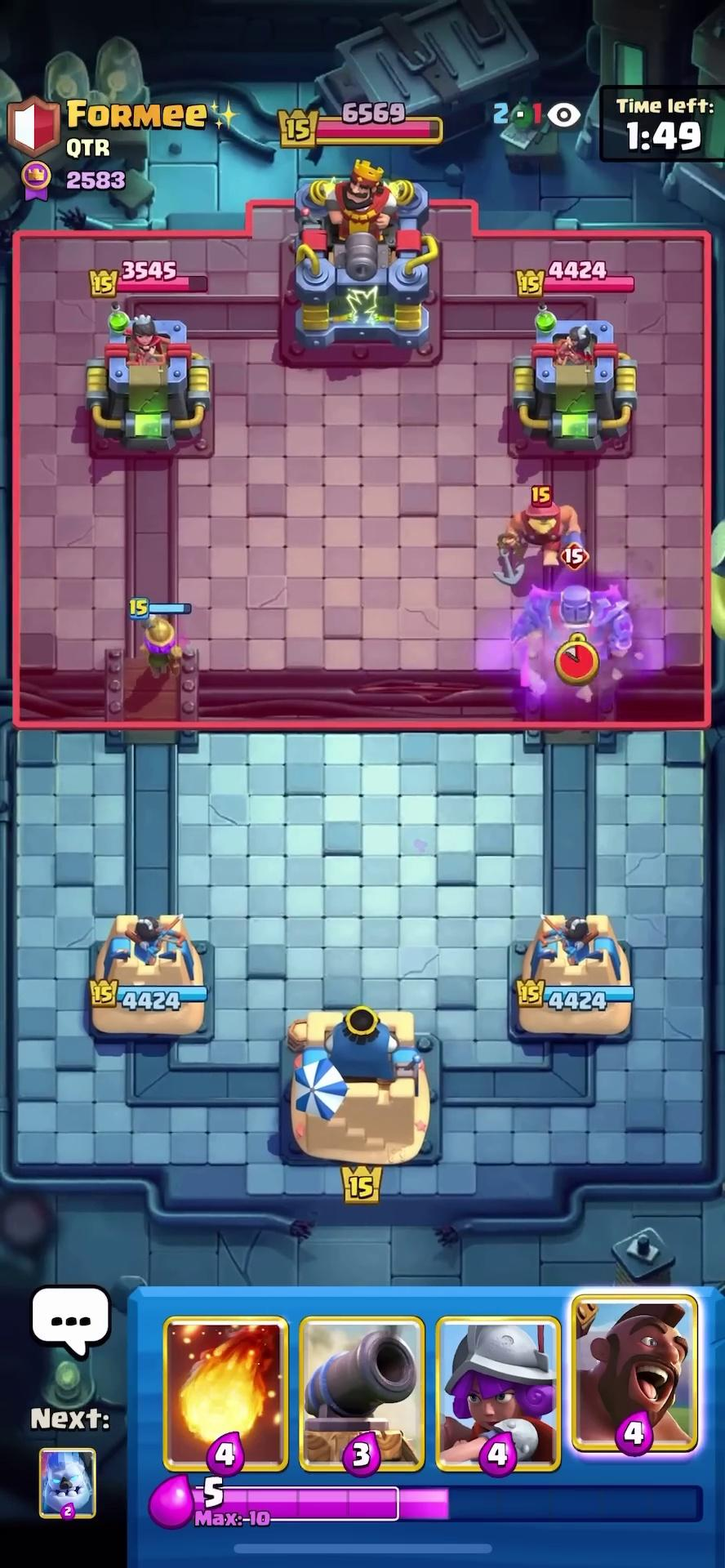musketeer: (112, 586, 210, 686)
